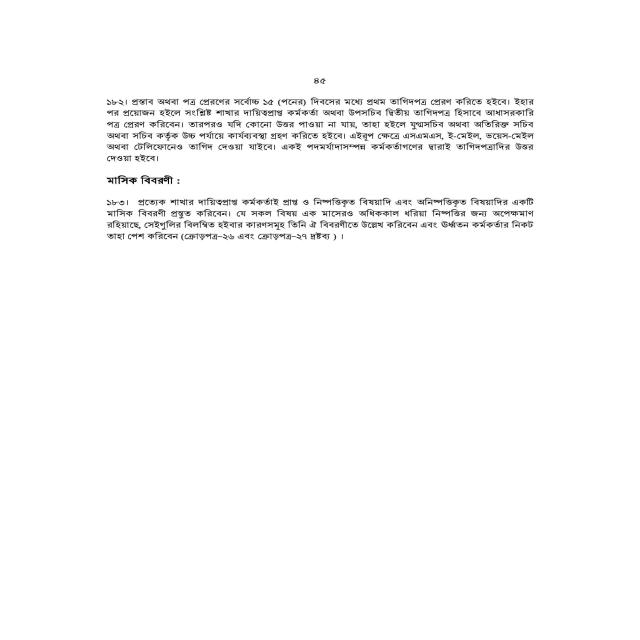page number: (313, 77, 327, 85)
paragraph: (106, 97, 535, 163), (106, 197, 535, 241)
title: (105, 174, 180, 186)
